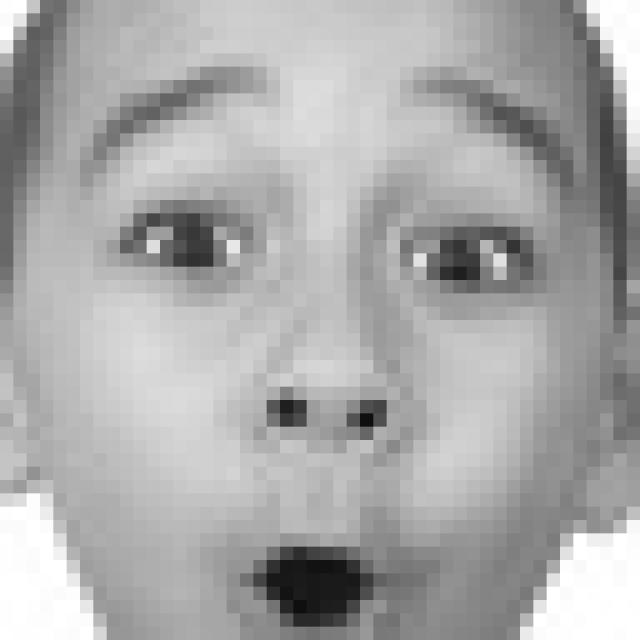surprise: (81, 55, 586, 640)
